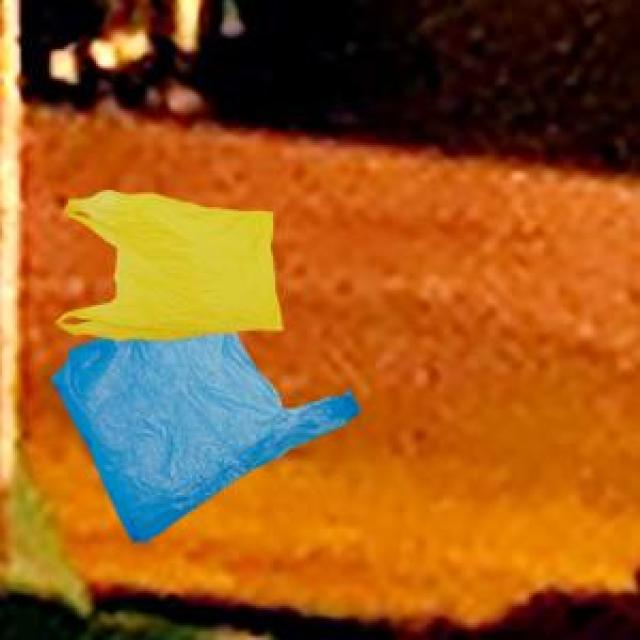plastic: (34, 152, 380, 568)
